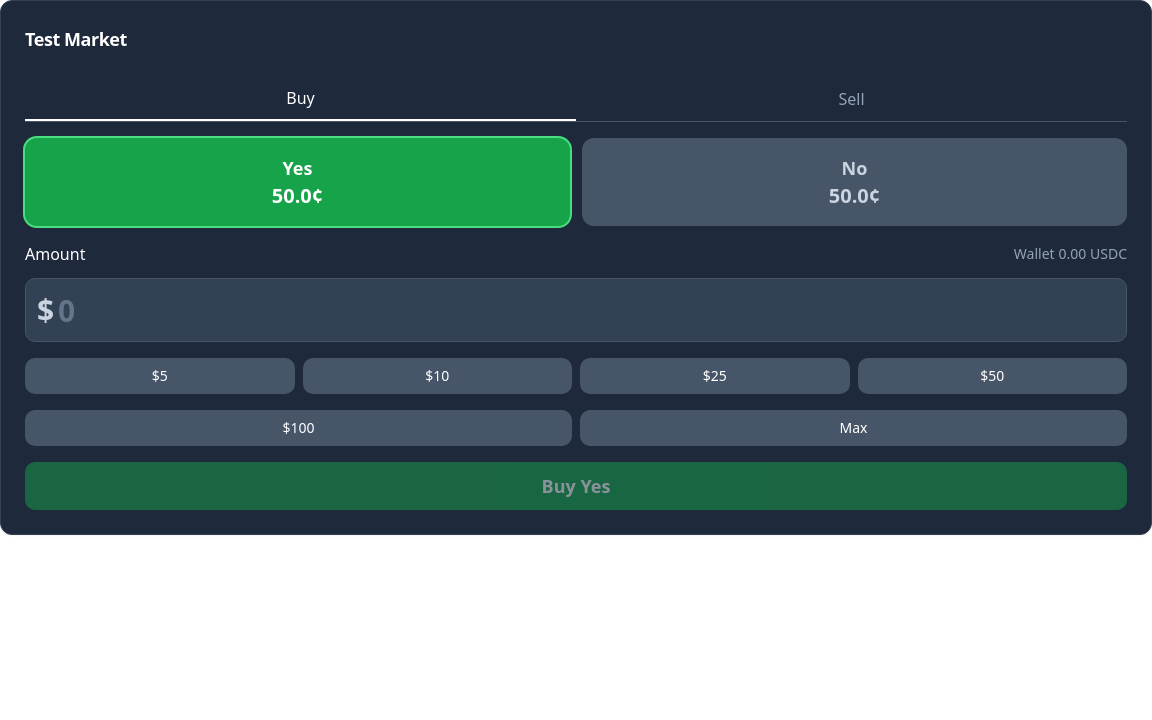
Test: TradingPanel › toggles side to No when No button clicked and updates trade button text
This screenshot has width=1152, height=720.
Click the button "No 50.0¢" at point(854, 182), box [582,138,1127,226]
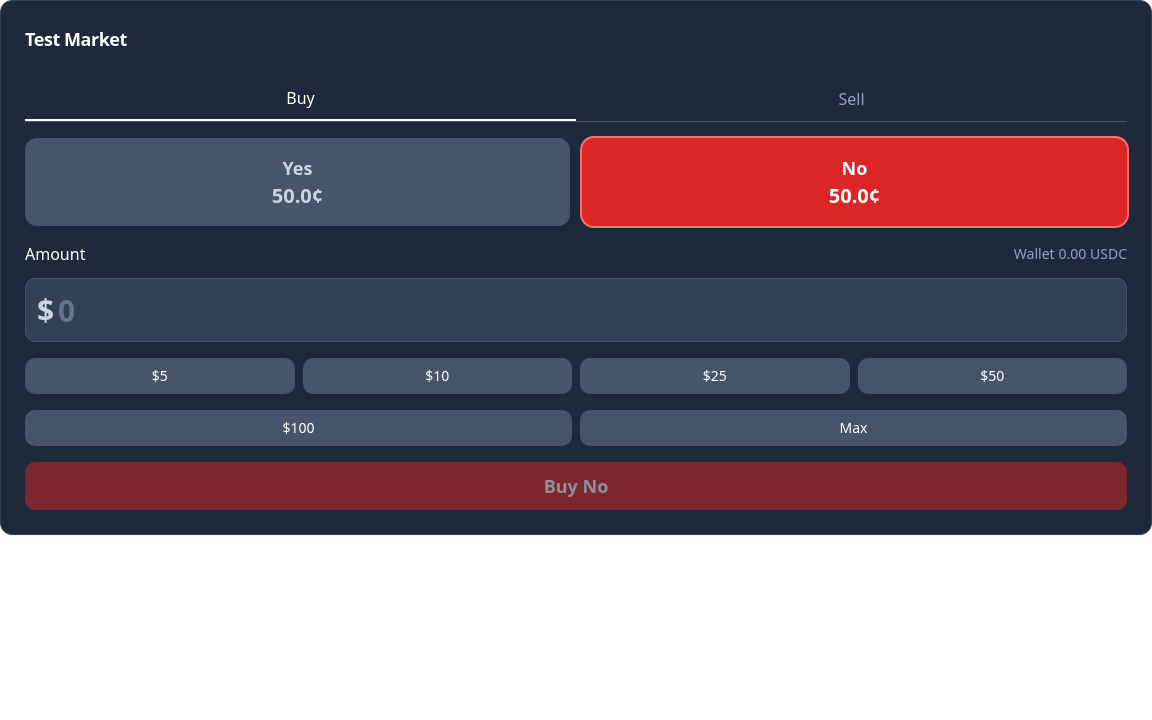
Expected: the button "Buy No" is shown, [25,462,1127,510]
